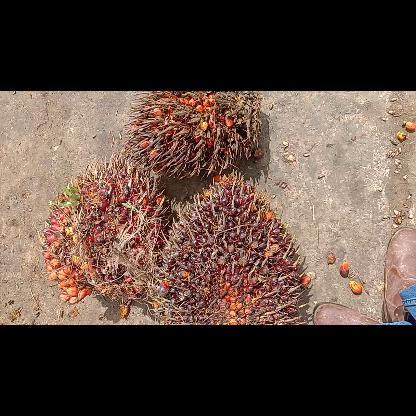Kurang masak: (153, 174, 307, 324)
TBS masak: (40, 159, 166, 303)
Terlalu masak: (126, 91, 260, 175)
